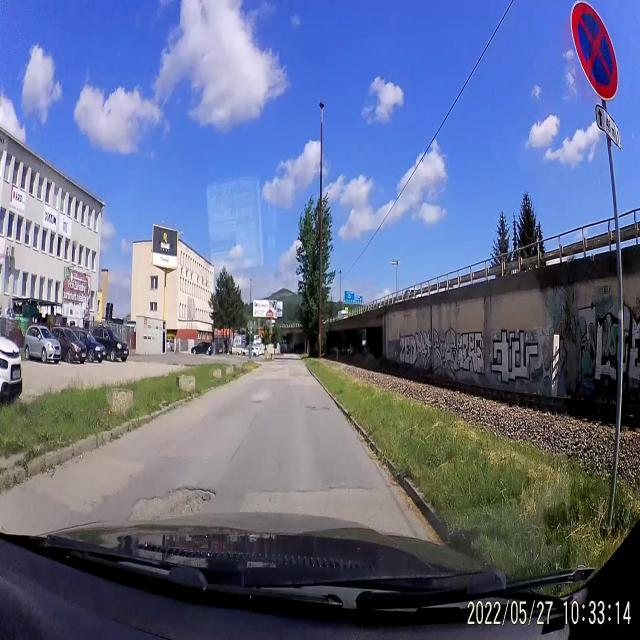Pothole: (128, 482, 214, 516), (306, 402, 331, 416), (250, 392, 266, 409)
